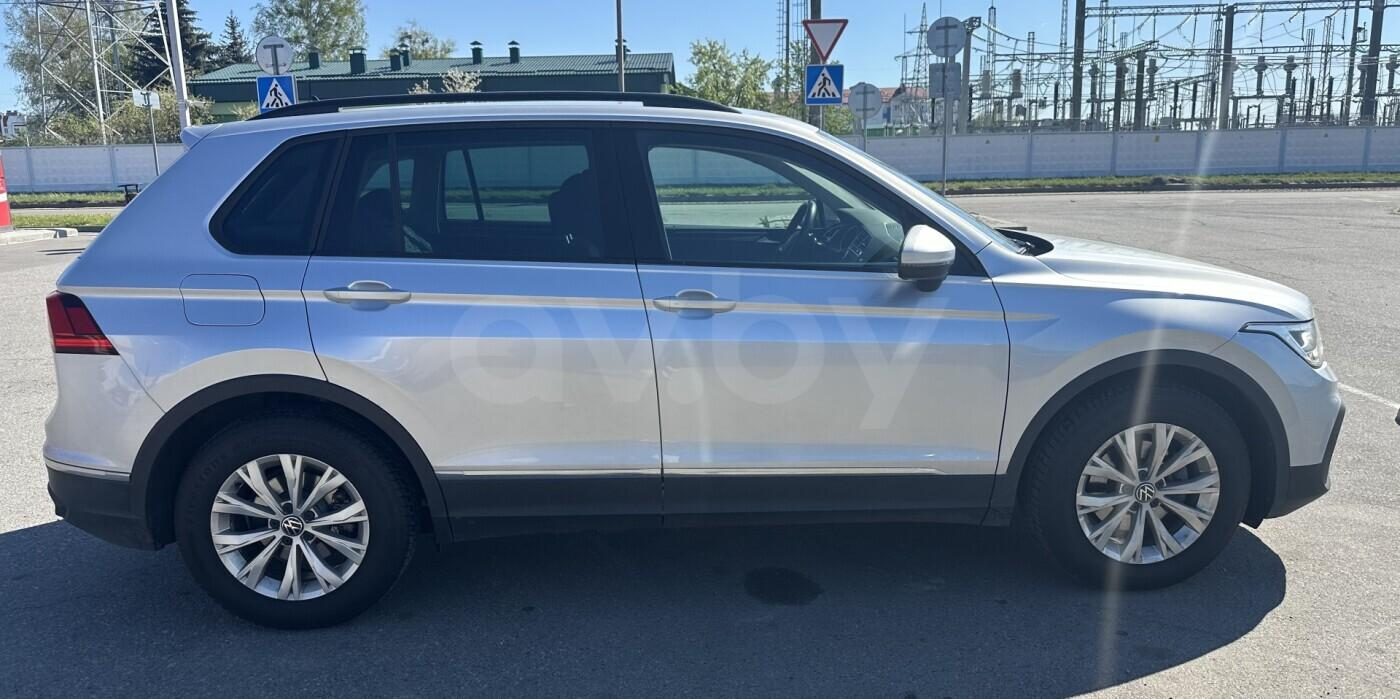Tiguan_2020-2024: (38, 93, 1344, 627)
